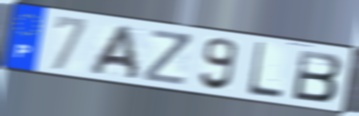7: (50, 14, 92, 73)
9: (199, 37, 240, 93)
A: (86, 23, 142, 82)
B: (291, 47, 345, 104)
L: (245, 40, 285, 101)
Z: (142, 27, 194, 88)
